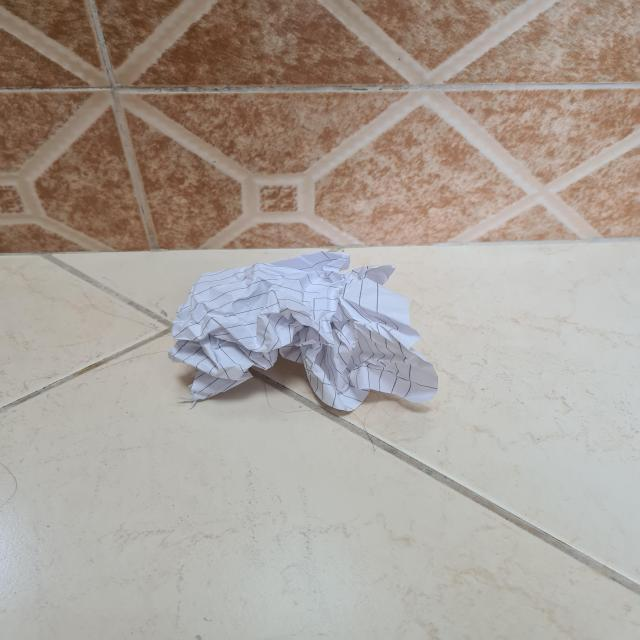cardboard paper: (169, 250, 436, 409)
